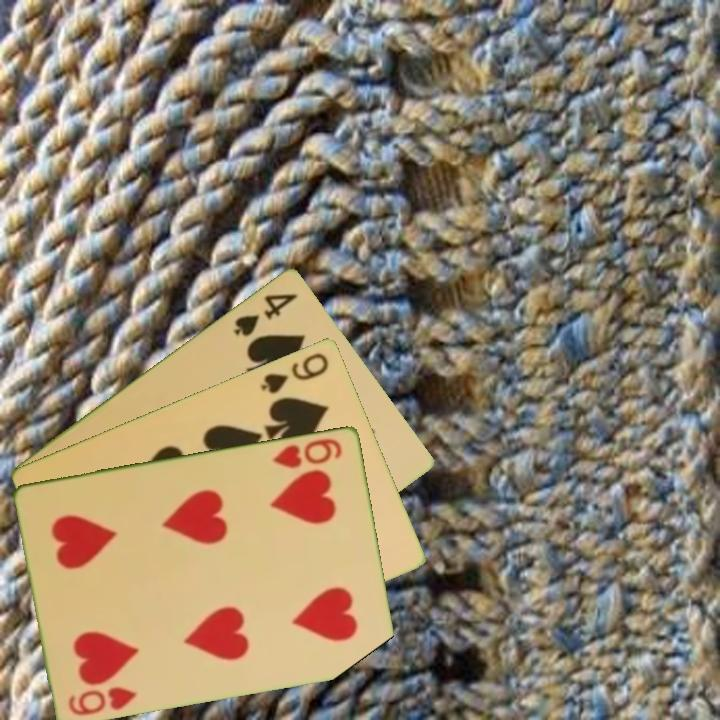4s: (230, 289, 301, 339)
6h: (269, 434, 346, 471), (65, 682, 141, 718)
9s: (257, 348, 332, 396)
